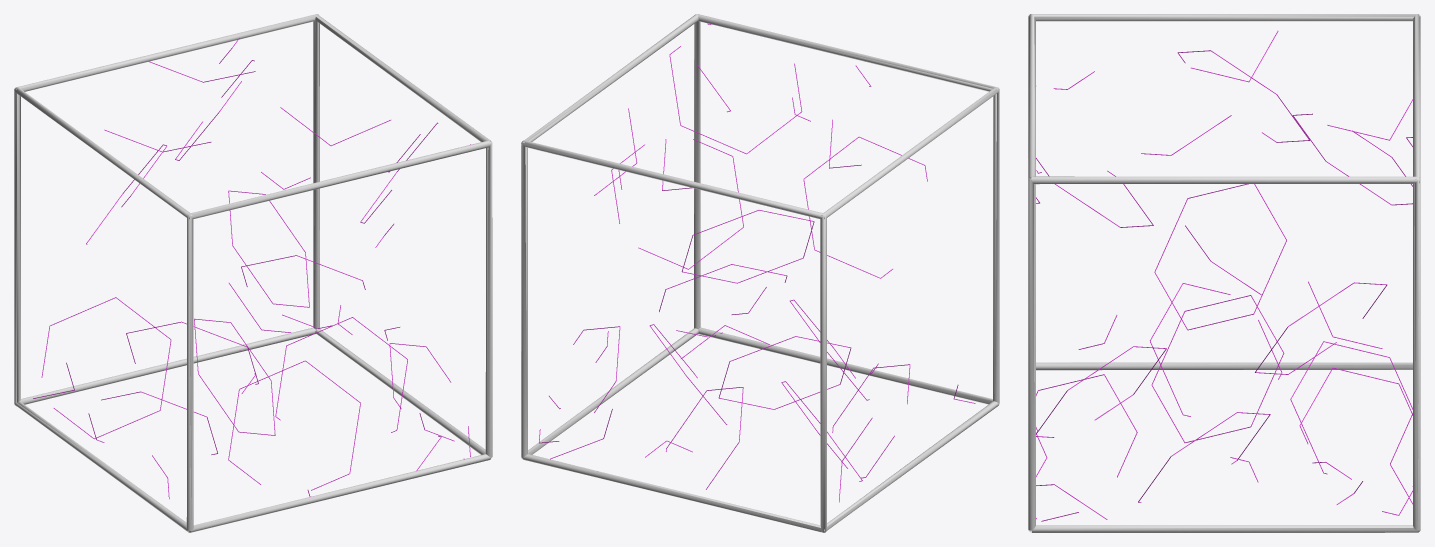
File: ddd000bl2.glb
The picture shows the model from 3 angles, left to right: view 1: azimuth 30°, elevation 25°; view 2: azimuth 150°, elevation 25°; view 3: azimuth 270°, elevation 25°; orthographic projection. The views are drawn at different scales.
Visible parts, largest first — view 1: Shape_IndexedLineSet, Shape_IndexedLineSet.001; view 2: Shape_IndexedLineSet, Shape_IndexedLineSet.001; view 3: Shape_IndexedLineSet, Shape_IndexedLineSet.001.
Boxes of the visible parts, x1,y1,x2,y2 form: Shape_IndexedLineSet: [14, 14, 492, 532]; Shape_IndexedLineSet.001: [33, 38, 470, 499]; Shape_IndexedLineSet: [521, 14, 999, 532]; Shape_IndexedLineSet.001: [539, 23, 975, 502]; Shape_IndexedLineSet: [1028, 14, 1420, 532]; Shape_IndexedLineSet.001: [1036, 31, 1412, 521].
Size of the model in its own units: 10.2 by 10.2 by 10.2.
